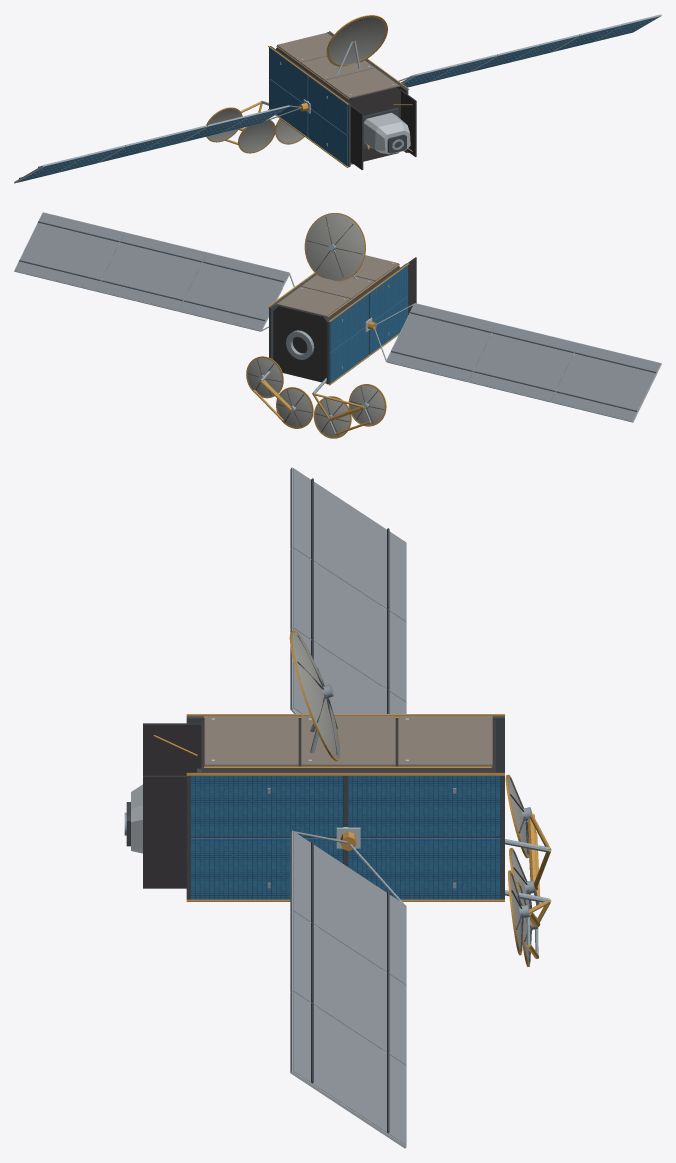
The picture shows the model from 3 angles, top to bottom: view 1: azimuth 30°, elevation 25°; view 2: azimuth 150°, elevation 25°; view 3: azimuth 270°, elevation 25°; orthographic projection. The views are drawn at different scales.
Parts seen in each view (by area): view 1: Four-string solar laminate (×6), Blue side panel (×4), Sidewall insulation (×3), Lateral reflector, Aft bank reflector (×3), Blanketed bus, Instrument side shield (×2), Spectrometer housing, Side panel carrier, Reflector edge binding; view 2: Rear wing substrate (×6), Blue side panel (×4), Aft bank reflector (×4), Blanketed bus, Lateral reflector, Sidewall insulation (×3), Solar wing leaf (×4), Side panel carrier (×2), Aft launch adapter, Instrument side shield; view 3: Rear wing substrate (×6), Blue side panel (×4), Sidewall insulation (×3), Instrument side shield (×2), Side panel carrier, Blanketed bus, Lateral reflector.
Boxes of the visible parts, x1,y1,x2,y2 form: Four-string solar laminate (×6): (16,16,659,182); Blue side panel (×4): (269,48,347,165); Sidewall insulation (×3): (277,32,398,98); Lateral reflector: (327,16,387,66); Aft bank reflector (×3): (207,108,303,153); Blanketed bus: (276,47,400,164); Instrument side shield (×2): (350,89,416,169); Spectrometer housing: (363,113,410,154); Side panel carrier: (269,46,350,166); Reflector edge binding: (326,15,387,66); Rear wing substrate (×6): (15,213,660,420); Blue side panel (×4): (329,265,407,383); Aft bank reflector (×4): (247,358,384,437); Blanketed bus: (273,266,400,382); Lateral reflector: (305,214,364,280); Sidewall insulation (×3): (277,255,398,316); Solar wing leaf (×4): (14,212,579,402); Side panel carrier (×2): (269,263,408,384); Aft launch adapter: (286,330,314,359); Instrument side shield: (407,257,416,314); Rear wing substrate (×6): (293,468,405,1145); Blue side panel (×4): (191,776,500,899); Sidewall insulation (×3): (204,715,492,766); Instrument side shield (×2): (143,723,201,888); Side panel carrier: (186,772,504,899); Blanketed bus: (201,720,495,772); Lateral reflector: (292,632,339,758).
Bounding box in the file's own units: 26 × 6.78 × 7.77.
12 materials, 2 textured.
